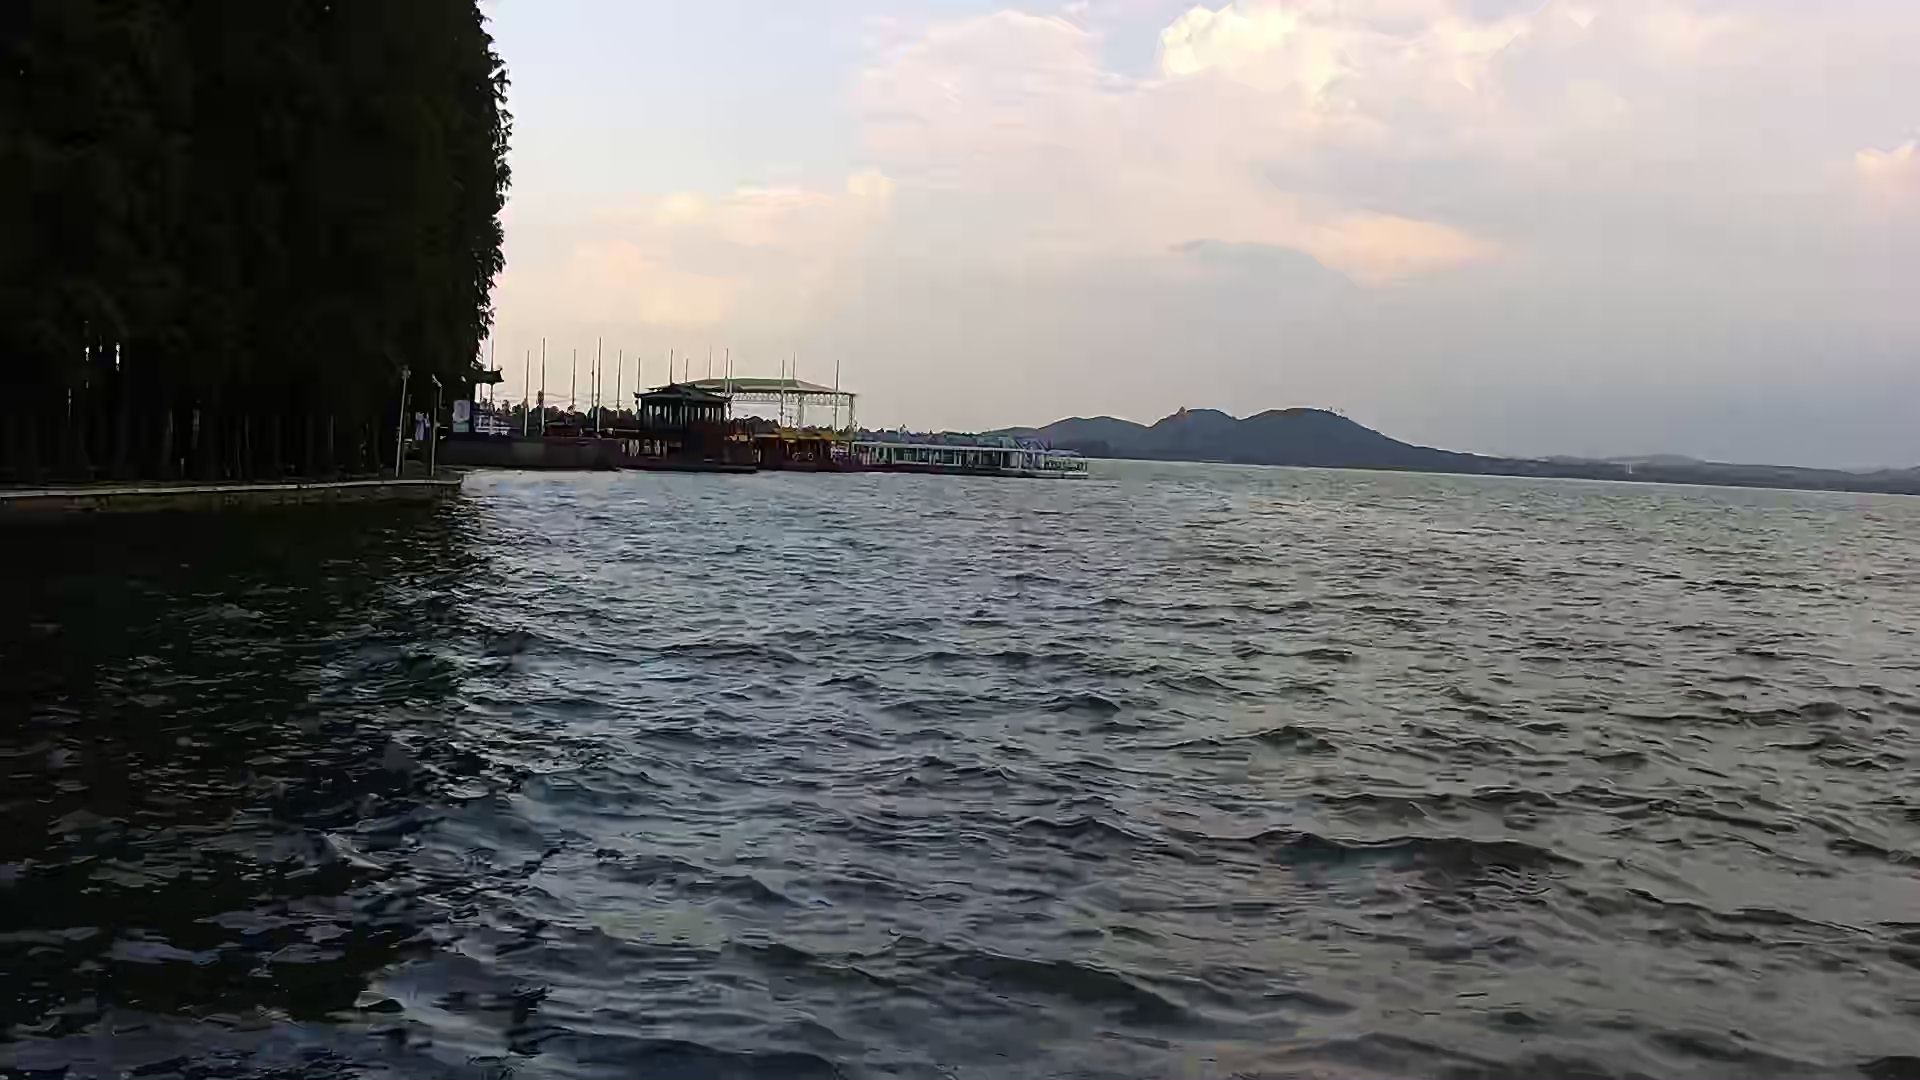boat: (877, 436, 1081, 477), (793, 425, 835, 469), (742, 427, 790, 465)
harbor: (456, 423, 632, 469)
ship: (644, 381, 738, 469)
